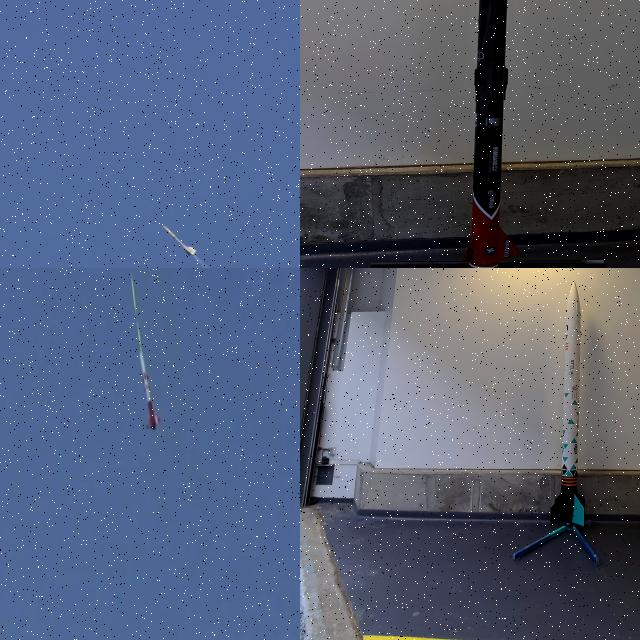Rocket: (462, 0, 520, 268), (550, 279, 585, 527), (140, 349, 162, 432), (162, 225, 198, 256)
